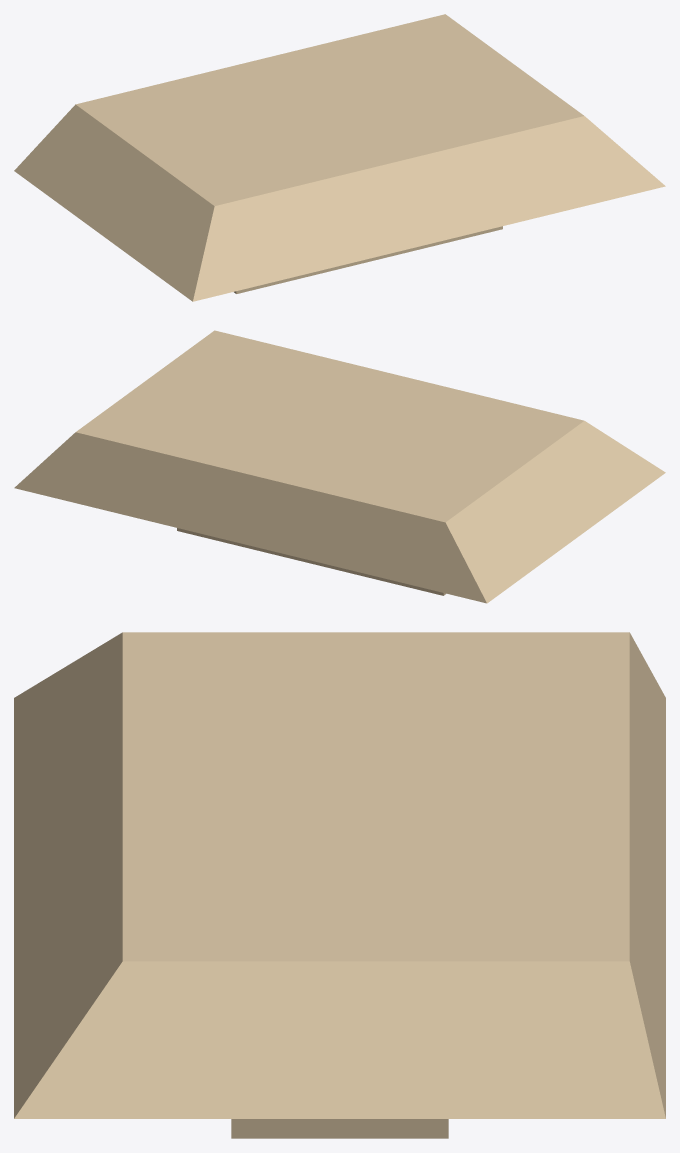
The model's file is original-21.obj.
The picture shows the model from 3 angles, top to bottom: view 1: azimuth 30°, elevation 25°; view 2: azimuth 150°, elevation 25°; view 3: azimuth 270°, elevation 25°; orthographic projection. The views are drawn at different scales.
Parts seen in each view (by area): view 1: KB_-_Key_1_2_1_1/KB_-_Key_1_2_1/mesh19/mesh19-geometry#mesh19-ge; view 2: KB_-_Key_1_2_1_1/KB_-_Key_1_2_1/mesh19/mesh19-geometry#mesh19-ge; view 3: KB_-_Key_1_2_1_1/KB_-_Key_1_2_1/mesh19/mesh19-geometry#mesh19-ge.
Part boxes in pixels (left/top/right/bottom): KB_-_Key_1_2_1_1/KB_-_Key_1_2_1/mesh19/mesh19-geometry#mesh19-ge: left=14, top=14, right=665, bottom=301; KB_-_Key_1_2_1_1/KB_-_Key_1_2_1/mesh19/mesh19-geometry#mesh19-ge: left=14, top=330, right=665, bottom=603; KB_-_Key_1_2_1_1/KB_-_Key_1_2_1/mesh19/mesh19-geometry#mesh19-ge: left=14, top=632, right=665, bottom=1138.
Size of the model in its own units: 0.1167 by 0.0289 by 0.0764.
